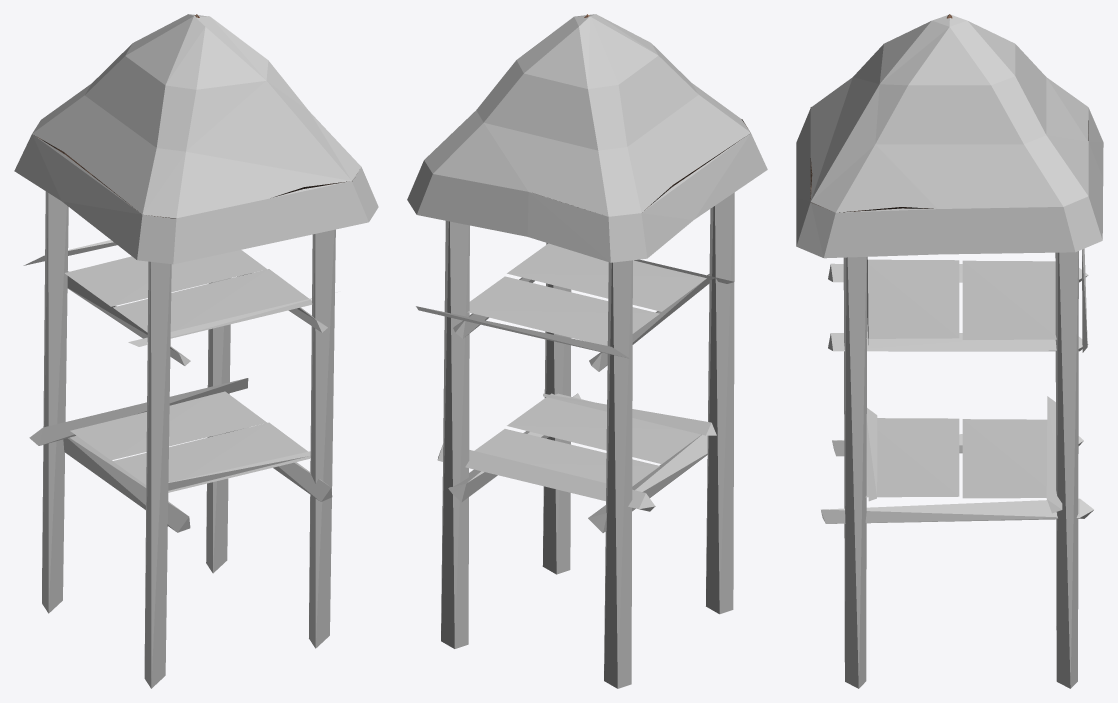
Rendered from WatchTower_1_LOD4.fbx.
3 renders of one model, left to right at view 1: azimuth 30°, elevation 25°; view 2: azimuth 150°, elevation 25°; view 3: azimuth 270°, elevation 25°, orthographic. The views are drawn at different scales.
Visible parts, largest first — view 1: Wood, Alpha; view 2: Wood, Alpha; view 3: Alpha, Wood.
Part boxes in pixels (x1,y1,x2,y2): Wood: (23,191,337,688); Alpha: (14,14,378,264); Wood: (416,192,734,688); Alpha: (407,14,767,262); Alpha: (796,15,1103,258); Wood: (821,248,1093,688).
Bounding box in the file's own units: 643 × 685 × 1559.
